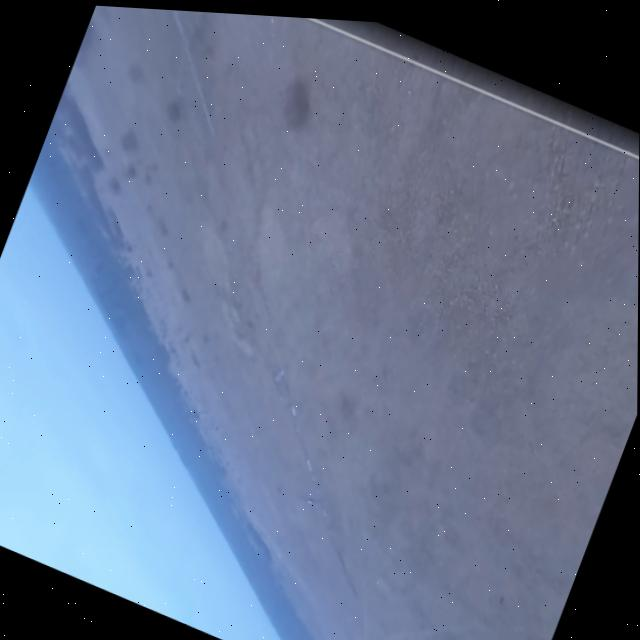planedrone: (292, 486, 331, 518)
